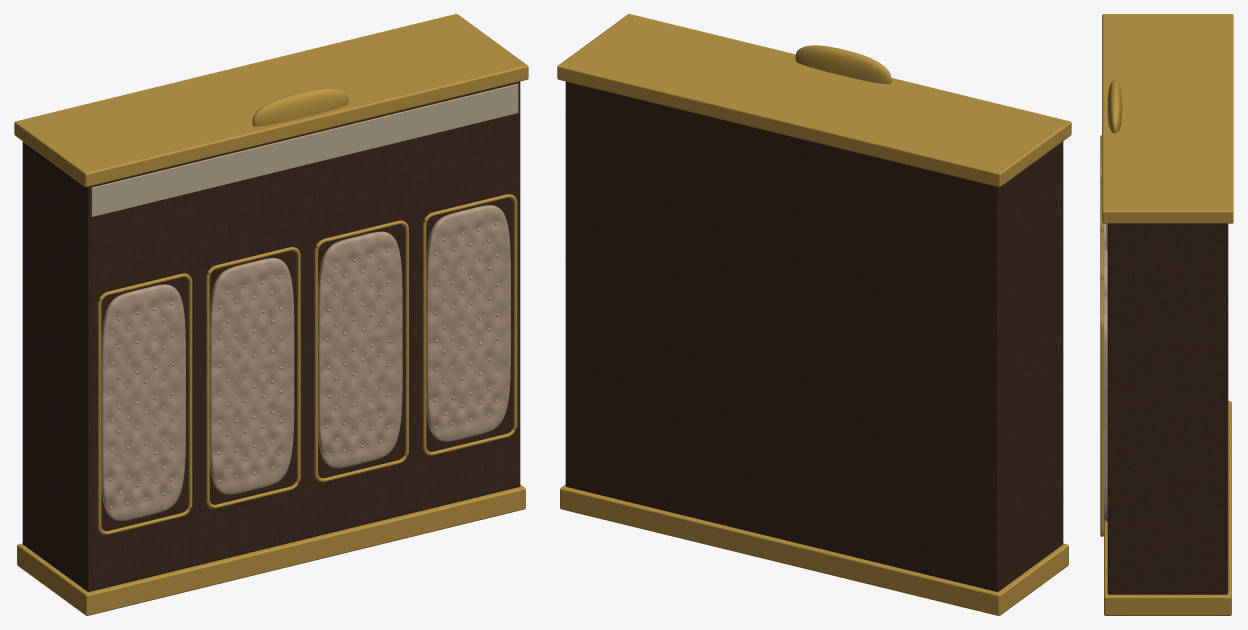
The model's file is empire-royal-bed-set--wardrobe.glb.
3 views of the same model, side by side, from view 1: azimuth 30°, elevation 25°; view 2: azimuth 150°, elevation 25°; view 3: azimuth 270°, elevation 25° (orthographic). The views are drawn at different scales.
Visible parts, largest first — view 1: body, cornice, door1, door3, door0, door2, band, base, frame0, frame3, frame1, frame2 (+1 smaller); view 2: body, cornice, base, crest; view 3: body, cornice, base, frame3, door3, crest.
Part boxes in pixels (x1,y1,x2,y2): body: (22,81,520,591); cornice: (14,14,528,187); door1: (209,258,294,494); door3: (426,205,510,441); door0: (101,284,185,520); door2: (318,231,402,468); band: (91,83,518,216); base: (17,484,525,615); frame0: (97,273,192,534); frame3: (422,194,517,455); frame1: (206,247,300,508); frame2: (314,220,408,482); body: (565,81,1063,591); cornice: (557,14,1071,187); base: (560,484,1068,615); crest: (795,45,891,84); body: (1107,223,1228,594); cornice: (1102,14,1233,223); base: (1104,401,1231,615); frame3: (1100,280,1103,536); door3: (1104,295,1107,521); crest: (1107,80,1122,133).
Size of the model in its own units: 2.56 by 2.57 by 0.73.
4 materials, 3 textured.
